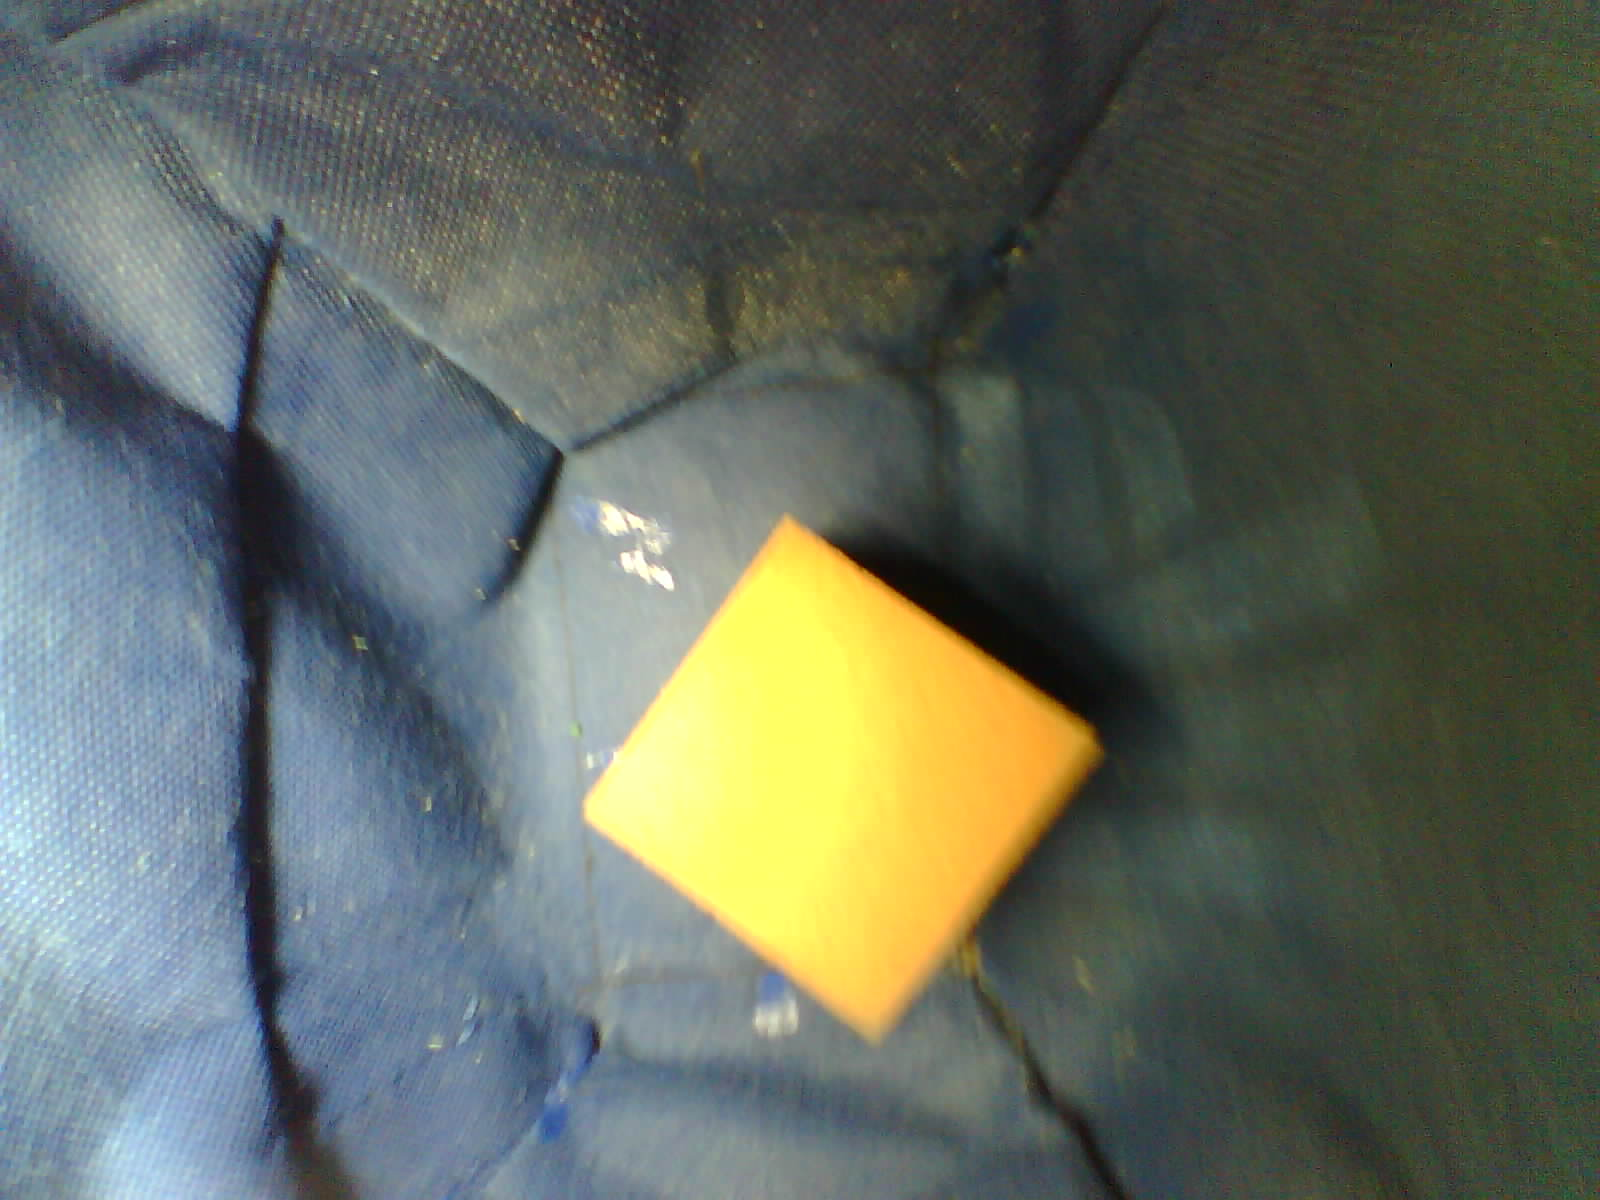cube-soft: (552, 502, 1129, 1068)
